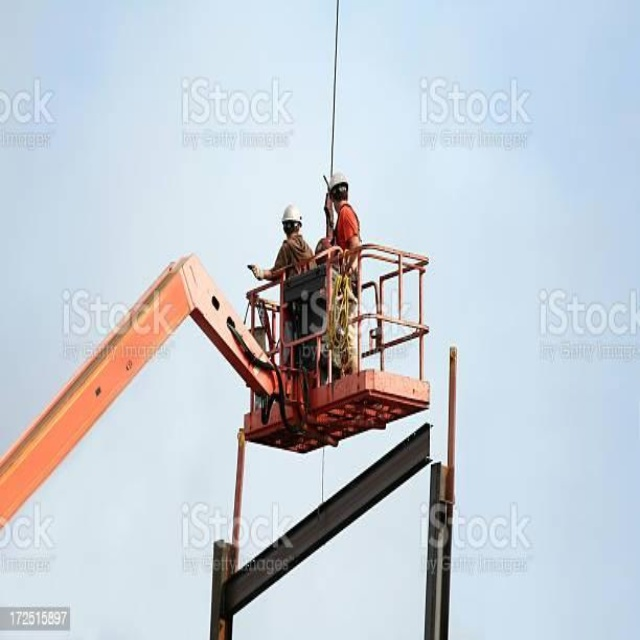Arnes_seguridad: (331, 205, 361, 274)
